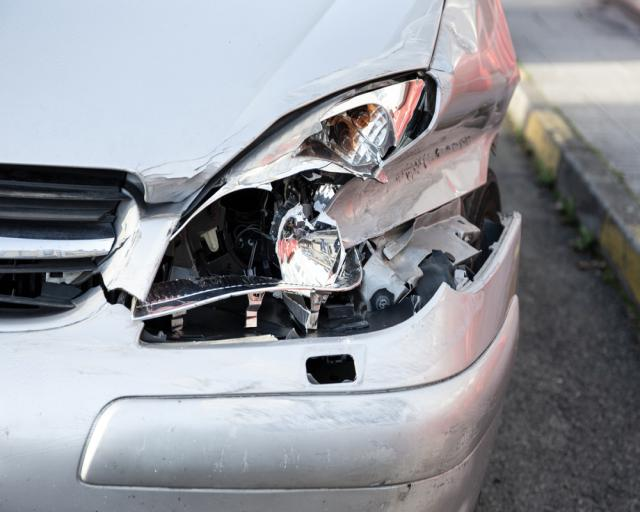crack: (75, 271, 142, 316)
dent: (326, 84, 509, 247), (432, 6, 475, 72)
lamp broken: (137, 71, 439, 315)
scratch: (184, 368, 414, 429)
